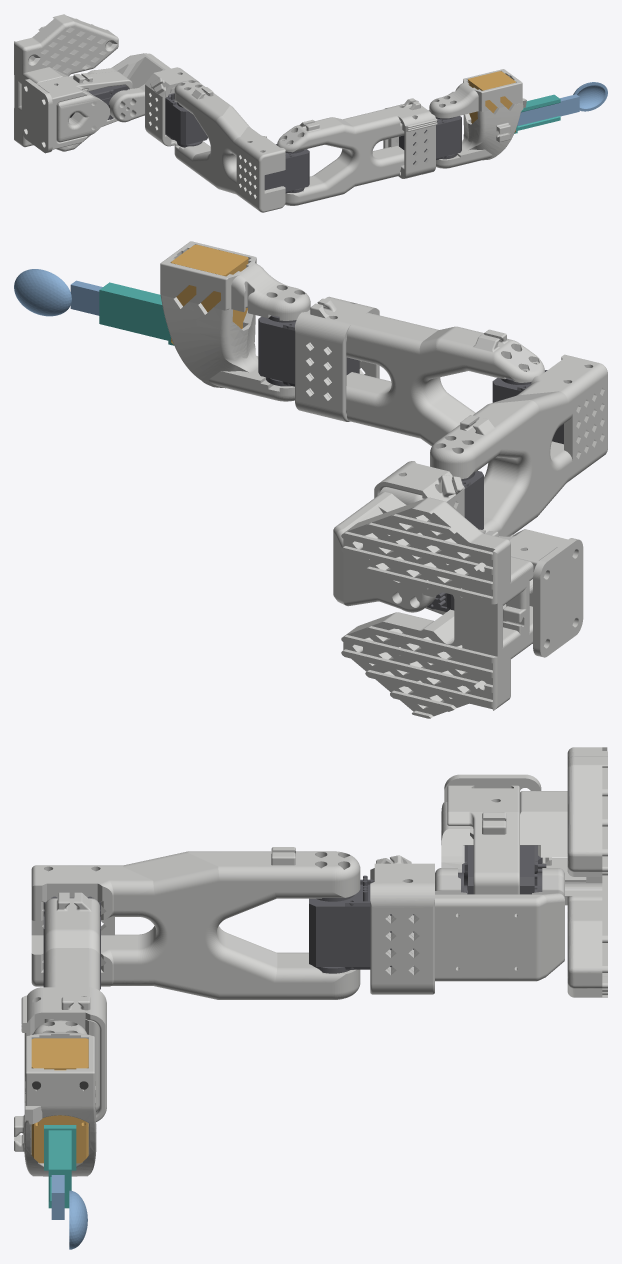
The model's file is Spoonful_Arm_Assembly.glb.
3 renders of one model, top to bottom at view 1: azimuth 30°, elevation 25°; view 2: azimuth 150°, elevation 25°; view 3: azimuth 270°, elevation 25°, orthographic. The views are drawn at different scales.
Parts seen in each view (by area): view 1: upper_arm_link:upper_arm_so101_v1, base_link:base_so101_v2, lower_arm_link:under_arm_so101_v1, wrist_link:wrist_roll_pitch_so101_v2, lower_arm_link:motor_holder_so101_wrist_v1, shoulder_link:rotation_pitch_so101_v1, base_link:base_motor_holder_so101_v1, base_link:waveshare_mounting_plate_so101_v2, shoulder_link:motor_holder_so101_base_v1, PLACEHOLDER spoon (13 x 5.5 handle, 90 mm), shoulder_link:sts3215_03a_v1, upper_arm_link:sts3215_03a_v1 (+4 smaller); view 2: base_link:base_so101_v2, upper_arm_link:upper_arm_so101_v1, lower_arm_link:under_arm_so101_v1, wrist_link:wrist_roll_pitch_so101_v2, lower_arm_link:motor_holder_so101_wrist_v1, base_link:waveshare_mounting_plate_so101_v2, shoulder_link:rotation_pitch_so101_v1, PLACEHOLDER spoon (13 x 5.5 handle, 90 mm), Cradle_M, lower_arm_link:sts3215_03a_v1, shoulder_link:motor_holder_so101_base_v1, Spoon_Block_SO101 (+3 smaller); view 3: upper_arm_link:upper_arm_so101_v1, base_link:base_so101_v2, shoulder_link:rotation_pitch_so101_v1, shoulder_link:motor_holder_so101_base_v1, wrist_link:wrist_roll_pitch_so101_v2, base_link:base_motor_holder_so101_v1, lower_arm_link:under_arm_so101_v1, shoulder_link:sts3215_03a_v1, lower_arm_link:motor_holder_so101_wrist_v1, Spoon_Block_SO101, Cradle_M, base_link:sts3215_03a_v1 (+2 smaller).
Part boxes in pixels (x1,y1,x2,y2): upper_arm_link:upper_arm_so101_v1: (174,80,285,212); base_link:base_so101_v2: (14,14,118,151); lower_arm_link:under_arm_so101_v1: (277,108,404,205); wrist_link:wrist_roll_pitch_so101_v2: (429,69,526,168); lower_arm_link:motor_holder_so101_wrist_v1: (383,98,437,178); shoulder_link:rotation_pitch_so101_v1: (87,53,174,122); base_link:base_motor_holder_so101_v1: (36,71,132,149); base_link:waveshare_mounting_plate_so101_v2: (21,79,52,153); shoulder_link:motor_holder_so101_base_v1: (145,67,199,146); PLACEHOLDER spoon (13 x 5.5 handle, 90 mm): (517,82,607,125); shoulder_link:sts3215_03a_v1: (165,93,207,147); upper_arm_link:sts3215_03a_v1: (264,144,309,193); base_link:base_so101_v2: (341,497,533,718); upper_arm_link:upper_arm_so101_v1: (430,354,607,536); lower_arm_link:under_arm_so101_v1: (309,312,544,446); wrist_link:wrist_roll_pitch_so101_v2: (160,241,310,401); lower_arm_link:motor_holder_so101_wrist_v1: (295,296,379,421); base_link:waveshare_mounting_plate_so101_v2: (533,538,583,657); shoulder_link:rotation_pitch_so101_v1: (333,487,436,612); PLACEHOLDER spoon (13 x 5.5 handle, 90 mm): (14,269,102,316); Cradle_M: (99,282,173,345); lower_arm_link:sts3215_03a_v1: (258,315,359,386); shoulder_link:motor_holder_so101_base_v1: (374,461,464,516); Spoon_Block_SO101: (171,244,248,344); upper_arm_link:upper_arm_so101_v1: (31,847,360,999); base_link:base_so101_v2: (441,747,607,997); shoulder_link:rotation_pitch_so101_v1: (387,868,564,981); shoulder_link:motor_holder_so101_base_v1: (370,855,434,994); wrist_link:wrist_roll_pitch_so101_v2: (14,1020,96,1176); base_link:base_motor_holder_so101_v1: (447,785,519,894); lower_arm_link:under_arm_so101_v1: (44,892,99,1111); shoulder_link:sts3215_03a_v1: (309,875,413,973); lower_arm_link:motor_holder_so101_wrist_v1: (21,987,106,1121); Spoon_Block_SO101: (31,1038,88,1163); Cradle_M: (44,1125,76,1208); base_link:sts3215_03a_v1: (458,845,546,894).
Size of the model in its own units: 413 by 111 by 257.
